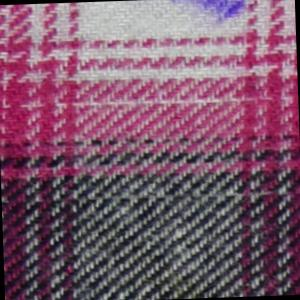Stain: (168, 1, 258, 33)
